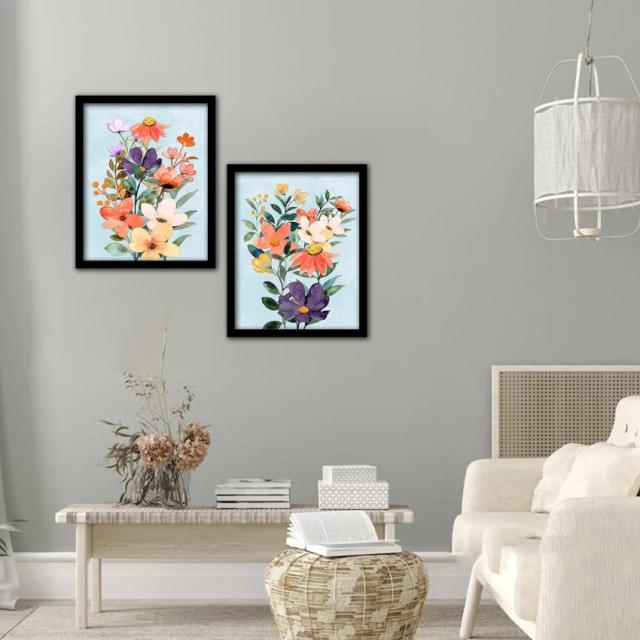painting: (77, 95, 217, 270), (228, 162, 368, 337)
